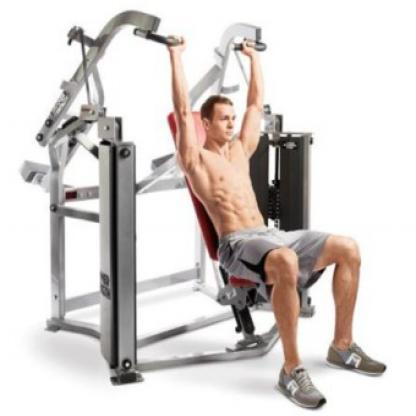shoulder press machine: (15, 7, 396, 408)
